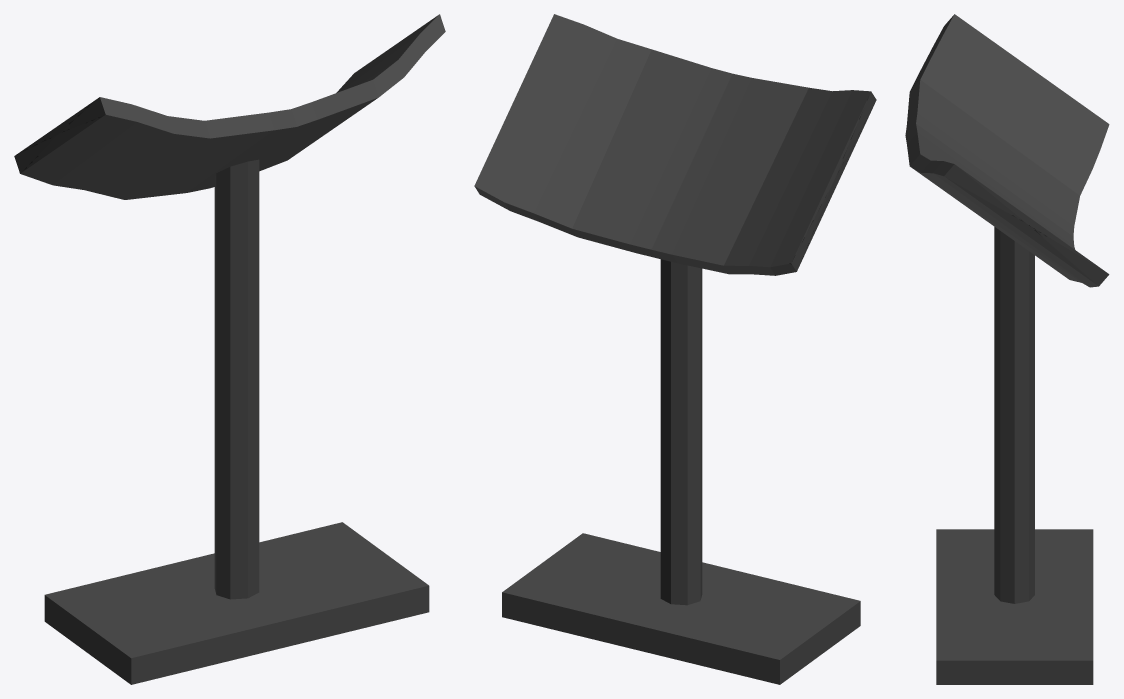
File: Console1.fbx
3 views of the same model, side by side, from view 1: azimuth 30°, elevation 25°; view 2: azimuth 150°, elevation 25°; view 3: azimuth 270°, elevation 25° (orthographic). The views are drawn at different scales.
Visible parts, largest first — view 1: Cube; view 2: Cube; view 3: Cube.
Part boxes in pixels (left/top/right/bottom): Cube: left=14, top=14, right=445, bottom=684; Cube: left=474, top=14, right=876, bottom=684; Cube: left=905, top=14, right=1109, bottom=684.
Size of the model in its own units: 229 by 376 by 131.
1 material, 1 textured.
